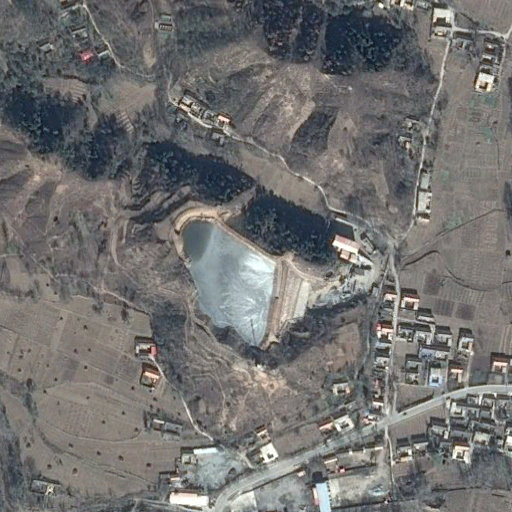tp: (176, 217, 310, 351)
